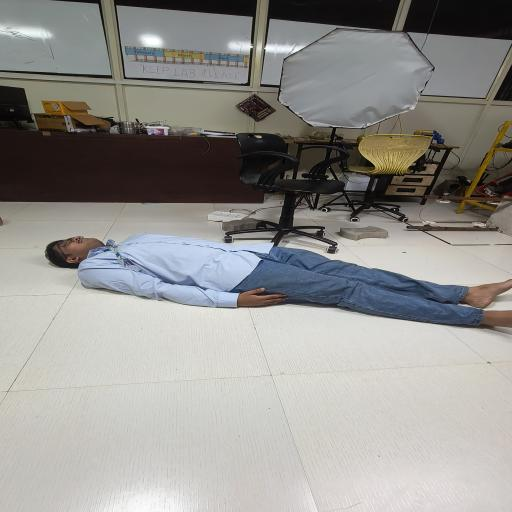survivor: (44, 232, 512, 328)
